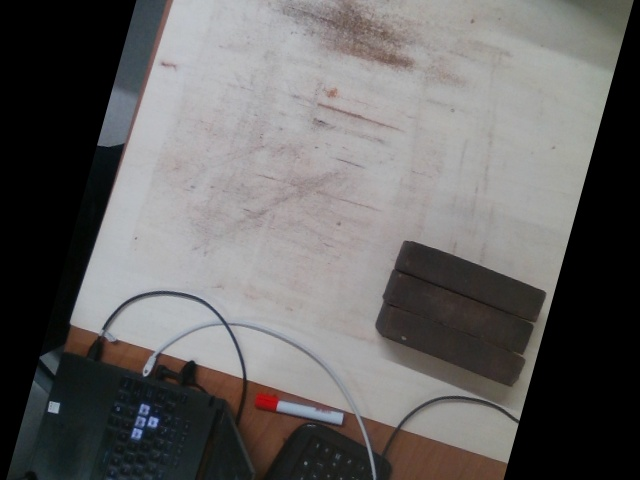brick-side: (402, 239, 544, 319), (390, 272, 532, 352), (382, 307, 524, 387)
